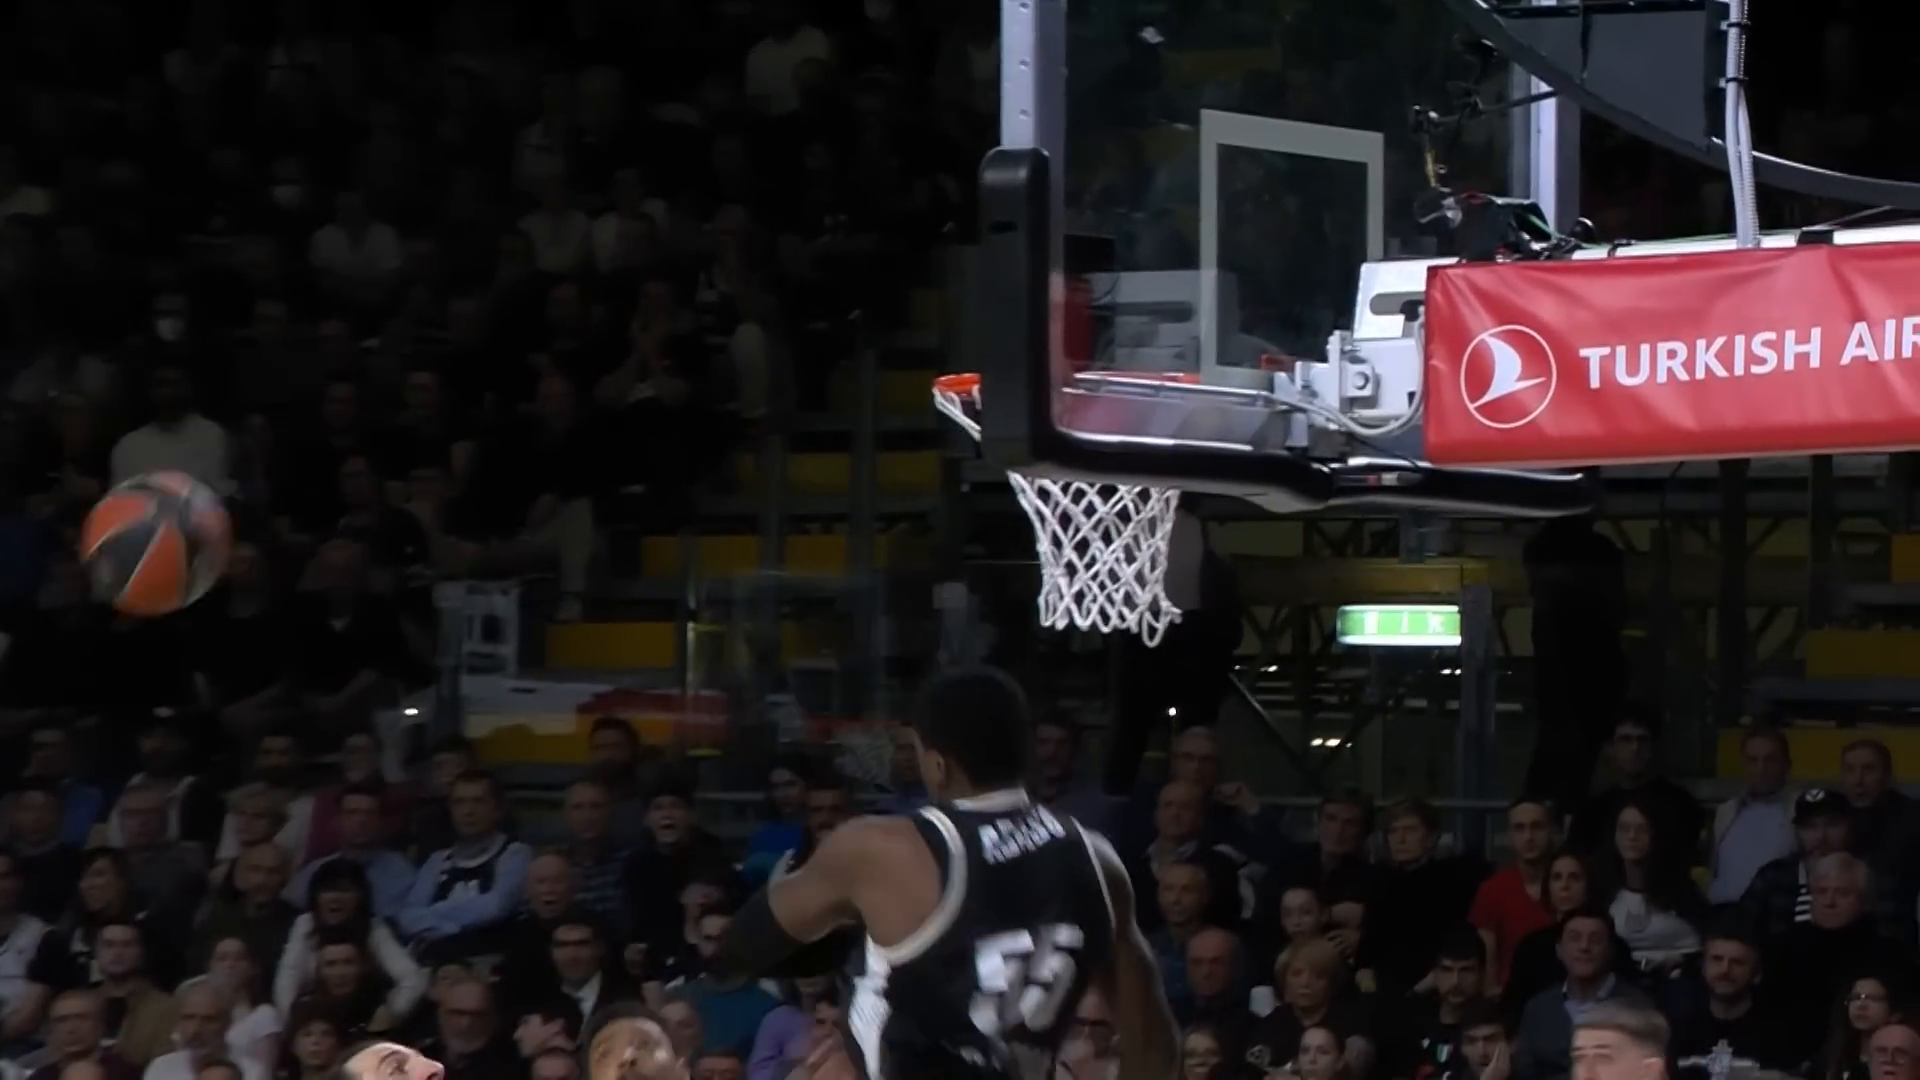ball: (65, 462, 243, 622)
net: (924, 360, 1211, 650)
